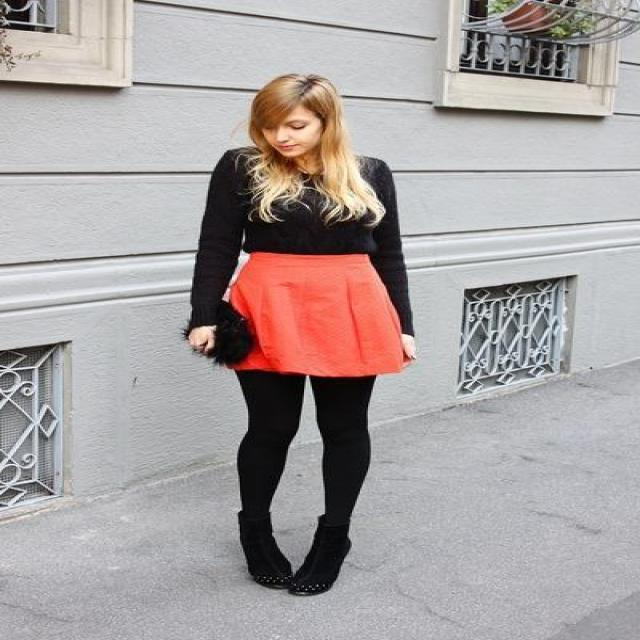bag: (182, 303, 255, 364)
jacket: (173, 148, 413, 336)
shoe: (250, 558, 336, 595)
skirt: (222, 252, 414, 396)
